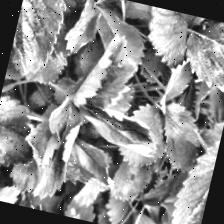Powdery Mildew Leaf: (71, 27, 144, 116), (6, 0, 72, 81), (71, 102, 164, 159), (40, 92, 86, 162), (65, 134, 123, 187), (19, 118, 65, 174)
